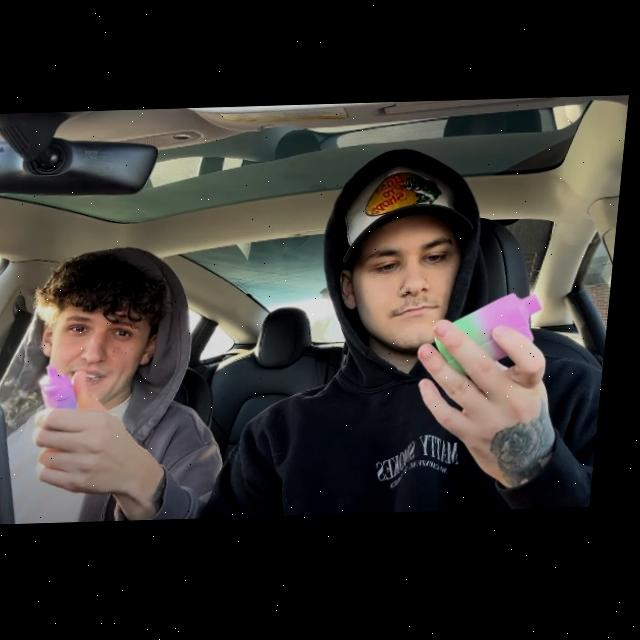vape: (439, 296, 550, 378), (44, 365, 89, 410)
